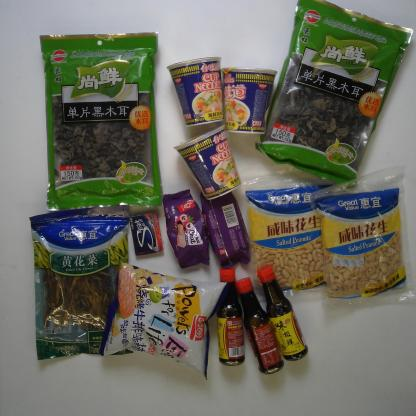Dessert: (195, 183, 254, 270), (159, 185, 212, 271)
Dried Food: (253, 0, 413, 189), (36, 28, 164, 212), (25, 199, 140, 365)
Dried Fruit: (306, 166, 415, 312), (235, 165, 346, 302)
Gum: (124, 204, 166, 258)
Instant Noodles: (170, 123, 243, 202), (165, 52, 232, 129), (218, 64, 278, 136)
Puffed Food: (98, 258, 229, 382)
Seasoner: (255, 262, 310, 366), (230, 276, 286, 376), (213, 262, 245, 368)
